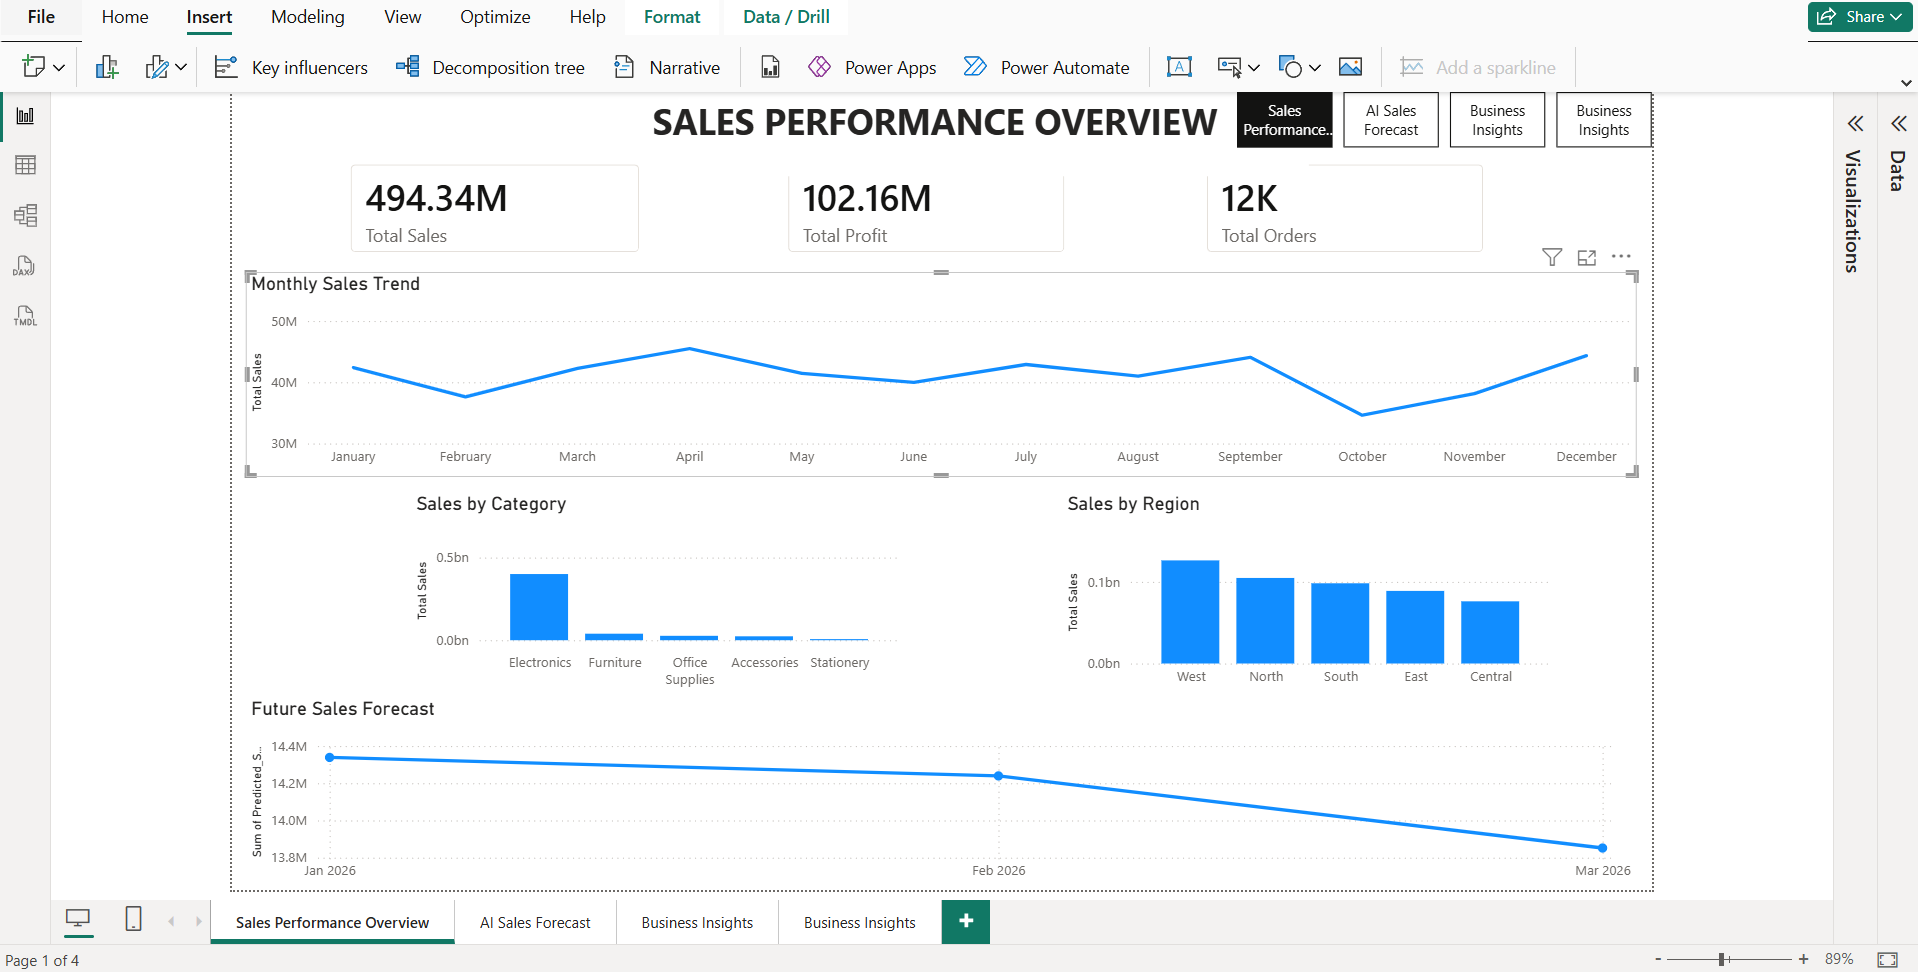

The dashboard page shown, as its layout file describes it:
{"tool":"powerbi","page":{"name":"Sales Performance Overview","canvas":[1280,720],"ordinal":0},"visuals":[{"type":"cardVisual","fields":{"Data":["sales.Total Sales"]},"box":[90.5,48.9,294.7,113.7],"z":0},{"type":"cardVisual","fields":{"Data":["sales.Total Profit"]},"box":[484.2,48.9,283.7,113.7],"z":1000},{"type":"cardVisual","fields":{"Data":["sales.Total Orders"]},"box":[862.1,48.9,283.7,113.7],"z":2000},{"type":"clusteredColumnChart","title":"Sales by Category","fields":{"Category":["sales.Category"],"Y":["sales.Total Sales"]},"box":[161.4,360.7,446.3,184.6],"z":3000},{"type":"clusteredColumnChart","title":"Sales by Region","fields":{"Category":["sales.Region"],"Y":["sales.Total Sales"]},"box":[748.4,360.7,446.3,184.6],"z":4000},{"type":"lineChart","title":"Monthly Sales Trend","fields":{"Y":["sales.Total Sales"],"Category":["sales.Order_Date.Variation.Date Hierarchy.Month"]},"box":[12.2,162.6,1254.6,184.6],"z":5000},{"type":"lineChart","title":"Future Sales Forecast","fields":{"Y":["Sum(future_sales_forecast.Predicted_Sales)"],"Category":["future_sales_forecast.Month_Date"]},"box":[12.2,545.4,1254.6,174.9],"z":6000},{"type":"textbox","box":[374.2,0,596.7,75.8],"z":7000},{"type":"pageNavigator","box":[906.1,0,374.2,50.1],"z":8000}]}

Visuals, with their boxes on the page's 1280x720 design canvas (x1, y1, x2, y2). These are canvas units, not pixel positions in the 1918x972 screenshot, which may show the page scaled, cropped or inside an application window:
cardVisual - sales.Total Sales: {"x1": 90, "y1": 49, "x2": 385, "y2": 163}
cardVisual - sales.Total Profit: {"x1": 484, "y1": 49, "x2": 768, "y2": 163}
cardVisual - sales.Total Orders: {"x1": 862, "y1": 49, "x2": 1146, "y2": 163}
"Sales by Category" clusteredColumnChart: {"x1": 161, "y1": 361, "x2": 608, "y2": 545}
"Sales by Region" clusteredColumnChart: {"x1": 748, "y1": 361, "x2": 1195, "y2": 545}
"Monthly Sales Trend" lineChart: {"x1": 12, "y1": 163, "x2": 1267, "y2": 347}
"Future Sales Forecast" lineChart: {"x1": 12, "y1": 545, "x2": 1267, "y2": 720}
textbox: {"x1": 374, "y1": 0, "x2": 971, "y2": 76}
pageNavigator: {"x1": 906, "y1": 0, "x2": 1280, "y2": 50}
